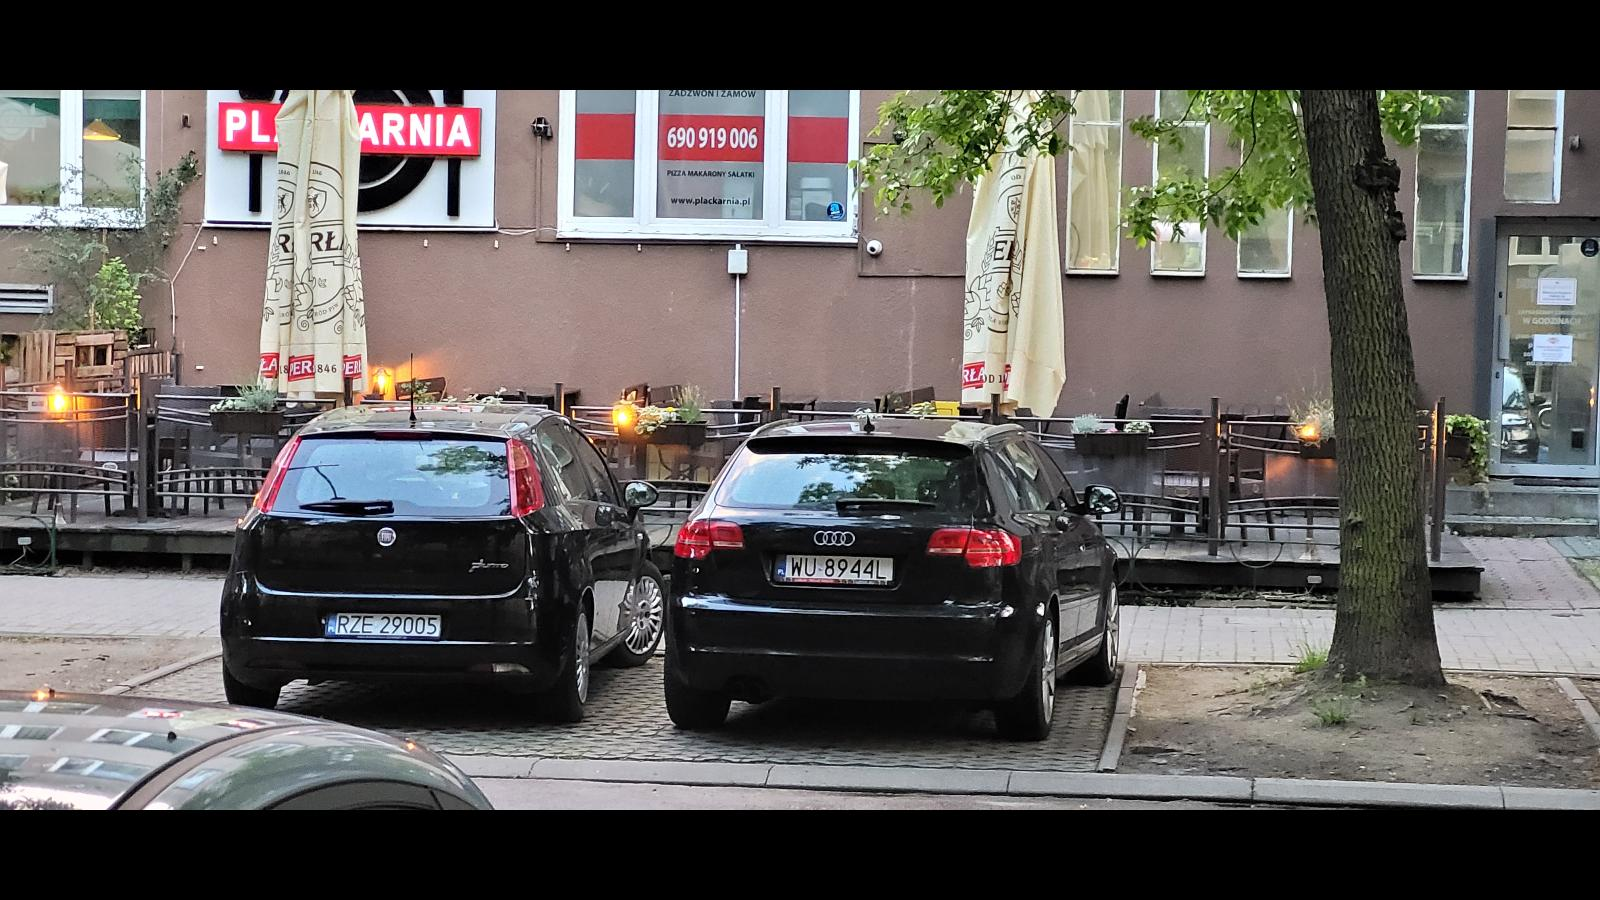plates: (774, 554, 896, 584), (324, 612, 442, 640)
